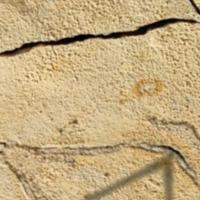crack: (1, 0, 199, 82)
